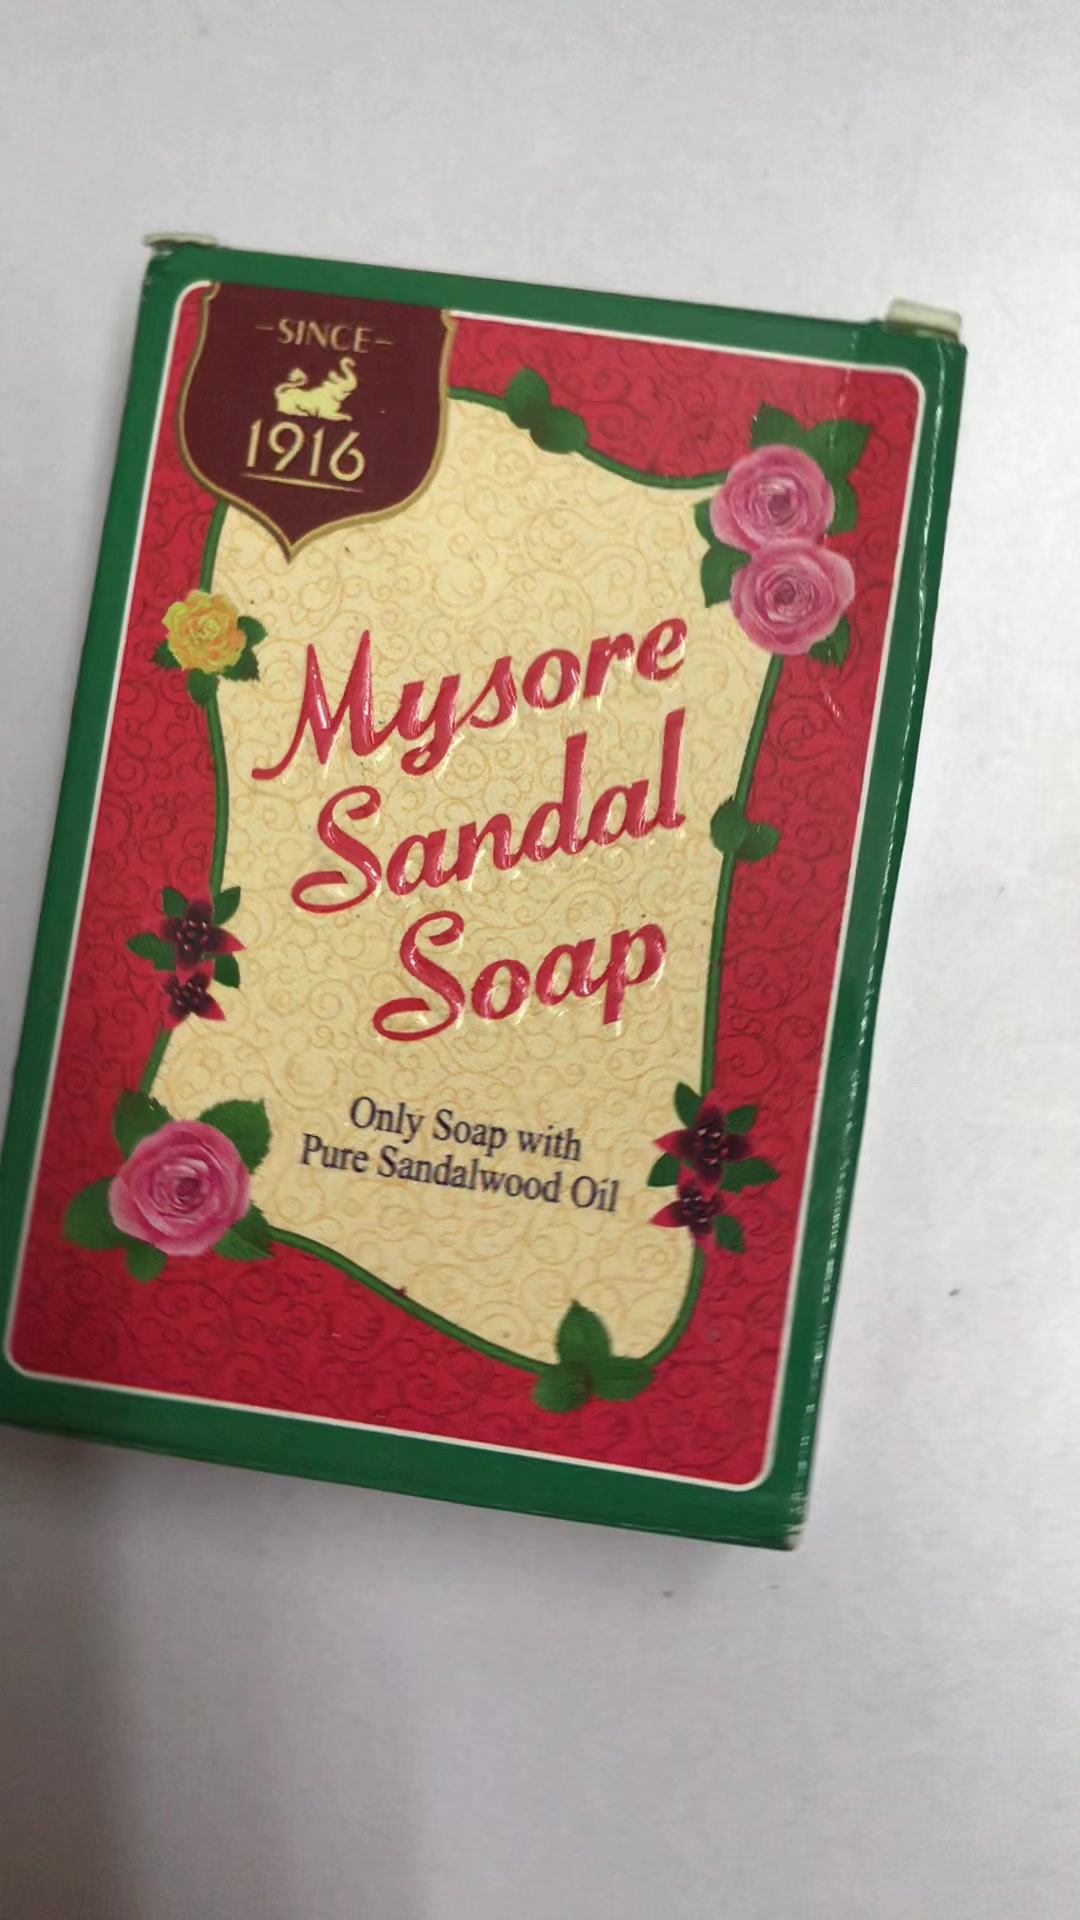mysore sandal soap: (9, 233, 968, 1556)
